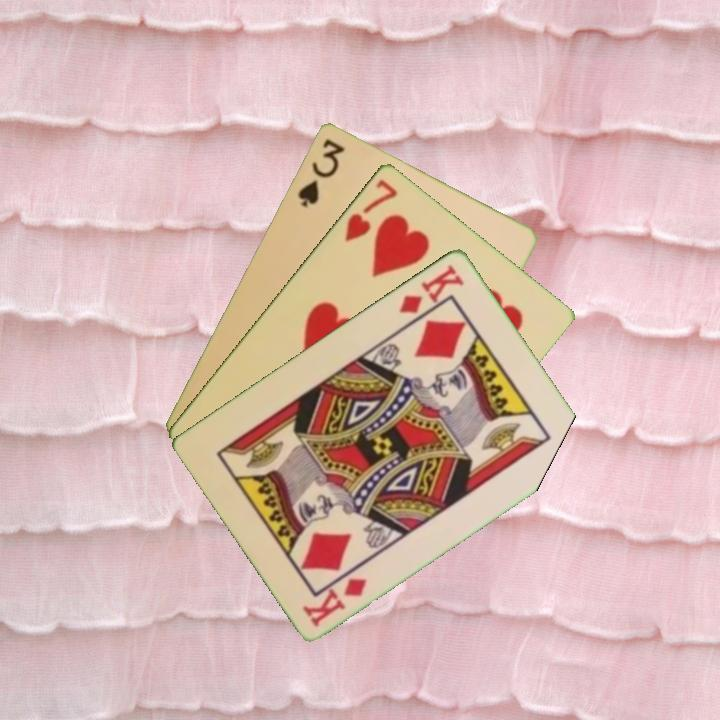3s: (293, 134, 348, 210)
7h: (341, 175, 401, 245)
Kd: (299, 573, 370, 630), (395, 260, 467, 316)
